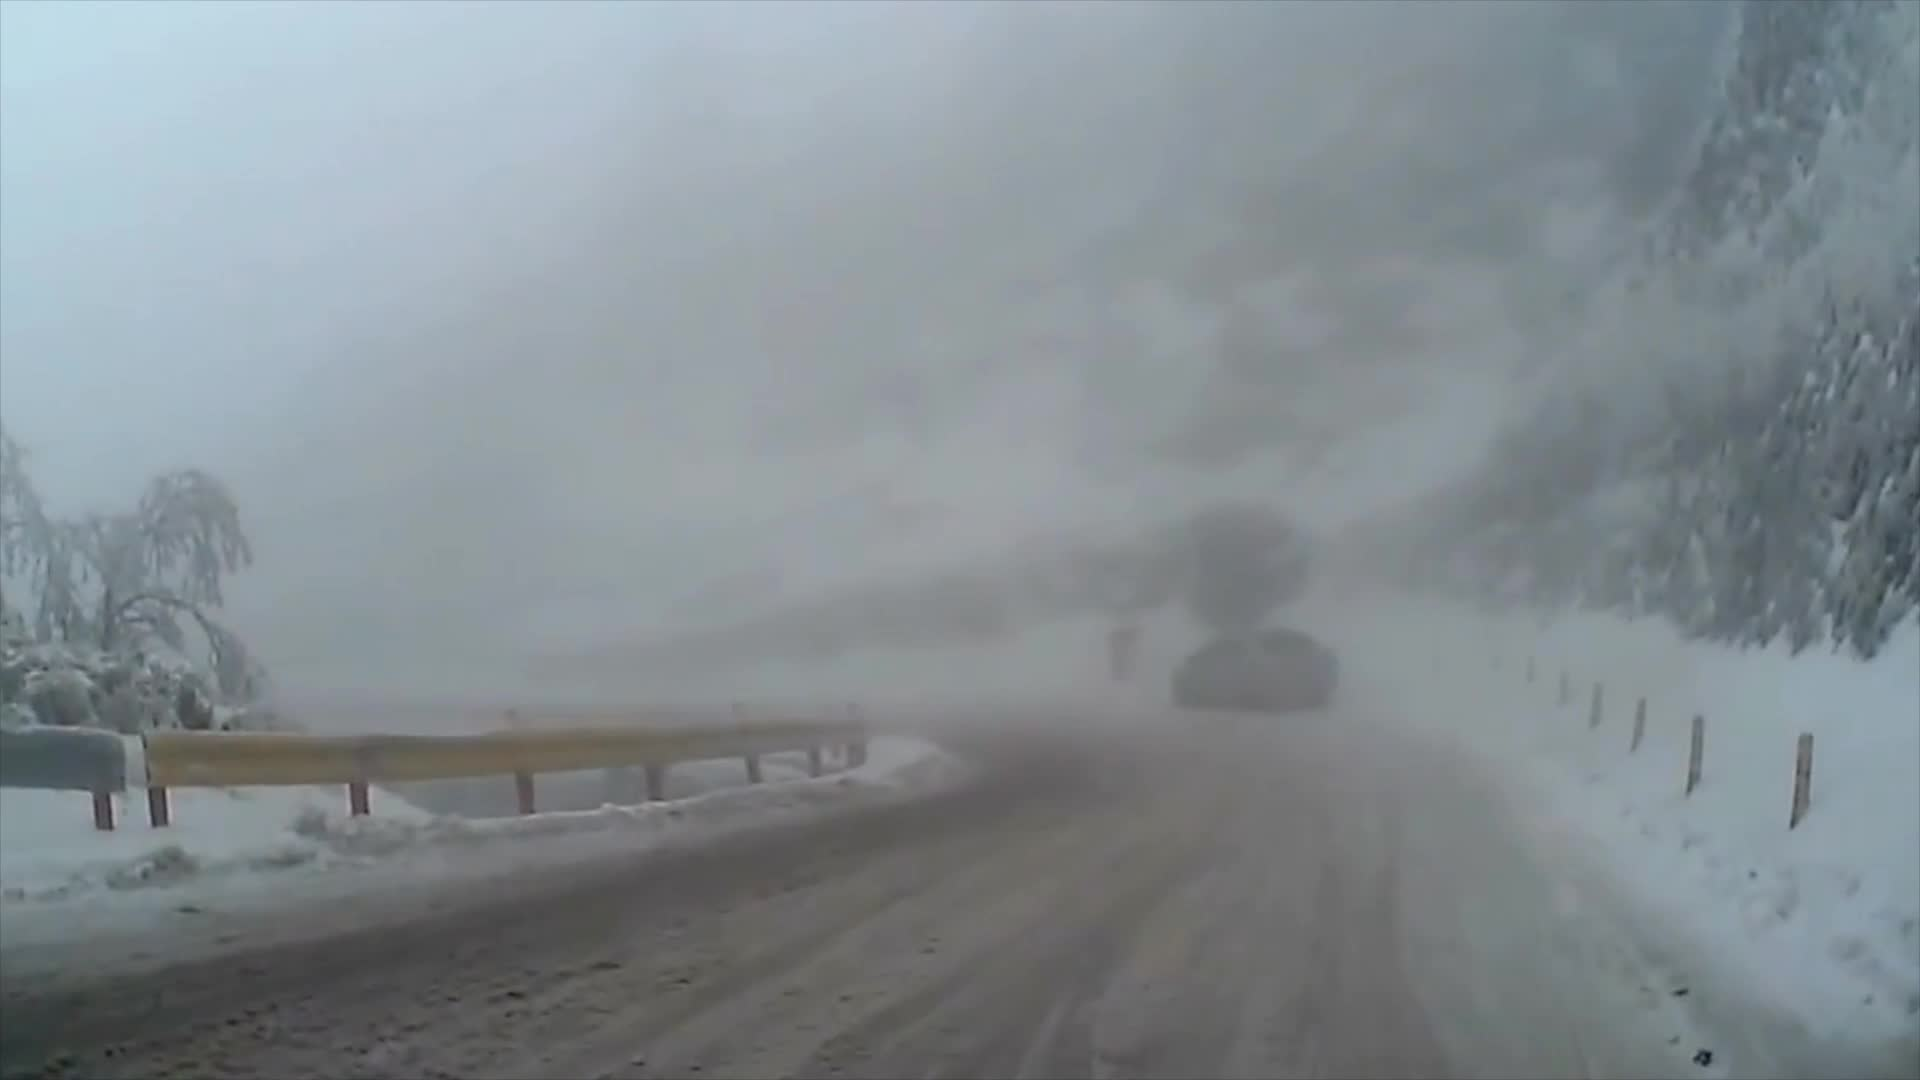vehicle: (1172, 629, 1338, 713)
